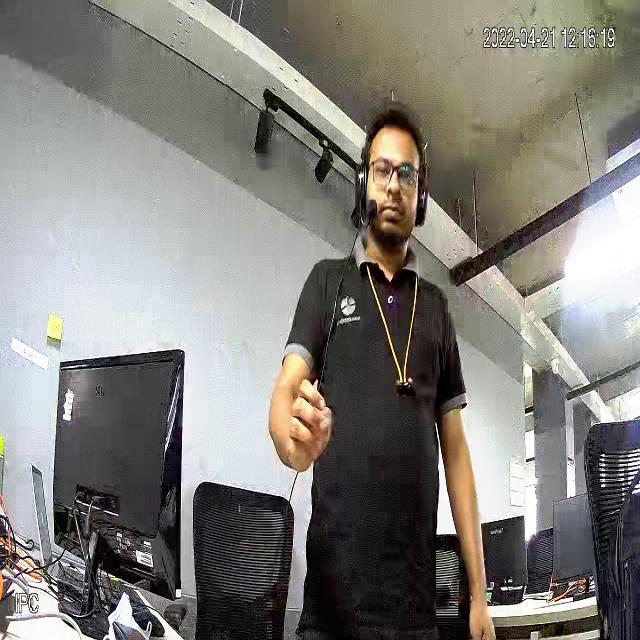Knife: (290, 260, 363, 412)
